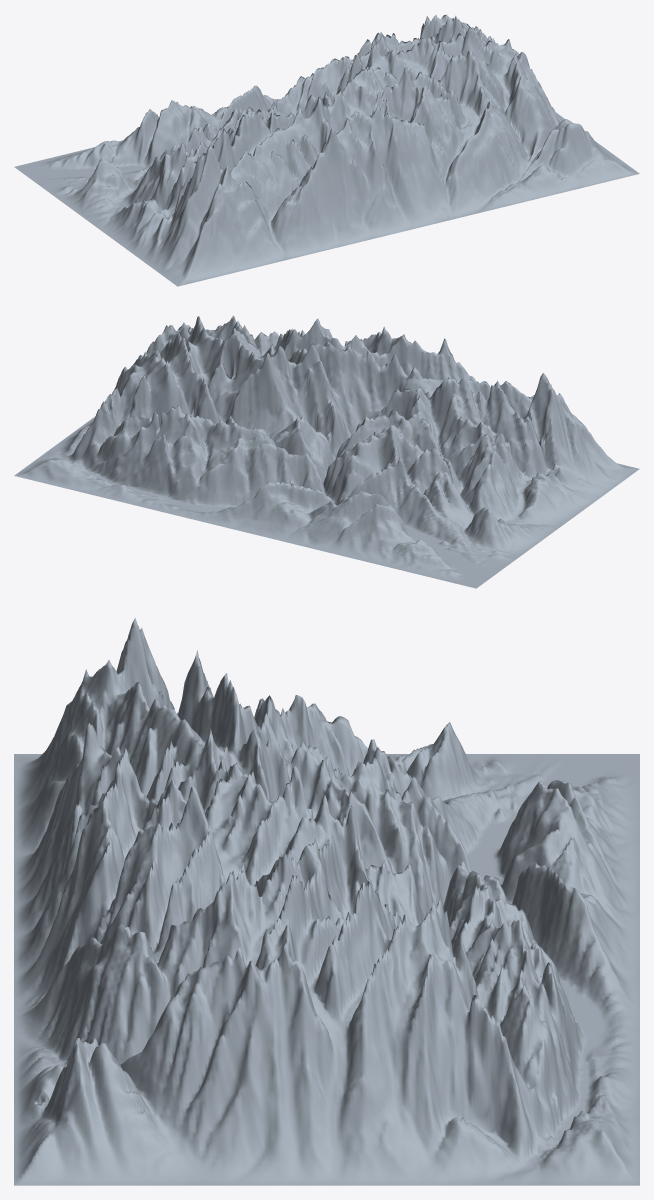
Rendered from eiger-ridge.glb.
The picture shows the model from 3 angles, top to bottom: view 1: azimuth 30°, elevation 25°; view 2: azimuth 150°, elevation 25°; view 3: azimuth 270°, elevation 25°; orthographic projection. The views are drawn at different scales.
Visible parts, largest first — view 1: eiger-ridge; view 2: eiger-ridge; view 3: eiger-ridge.
Part boxes in pixels (x1,y1,x2,y2): eiger-ridge: [14, 14, 639, 286]; eiger-ridge: [14, 315, 639, 588]; eiger-ridge: [14, 618, 639, 1185].
Size of the model in its own units: 124 by 30.11 by 76.
